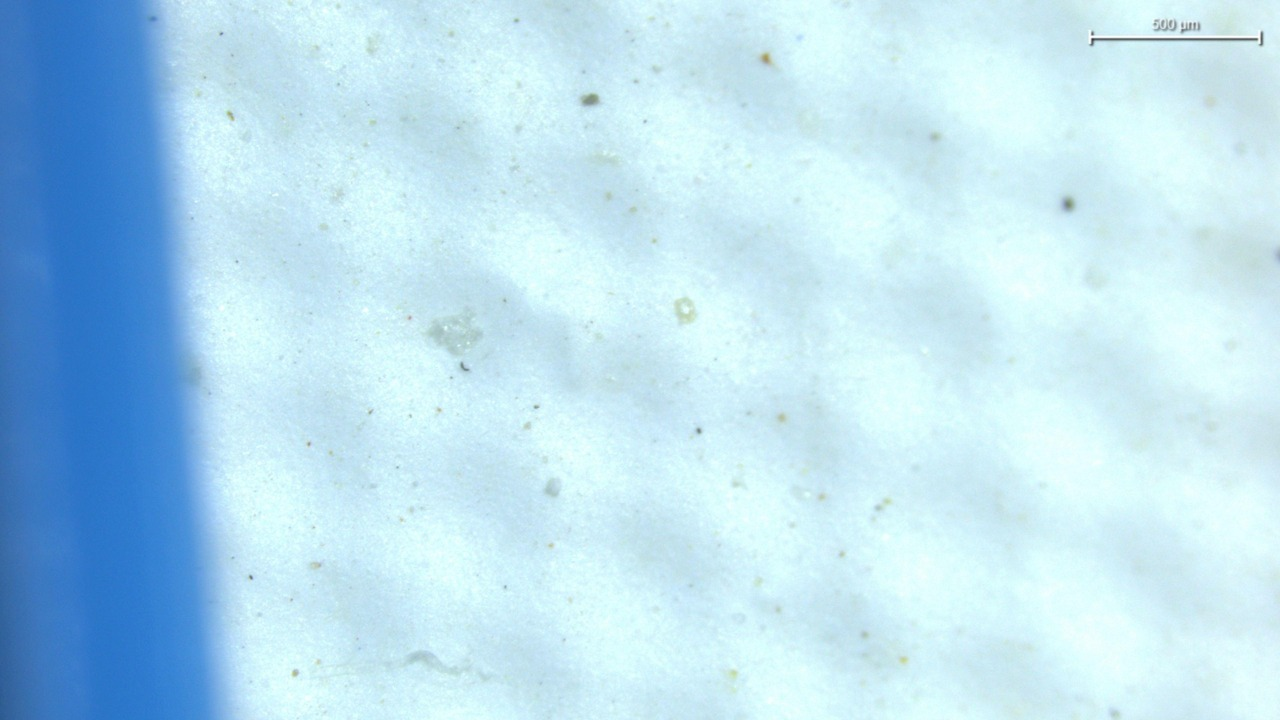microplastic_fragment: (427, 308, 482, 355)
